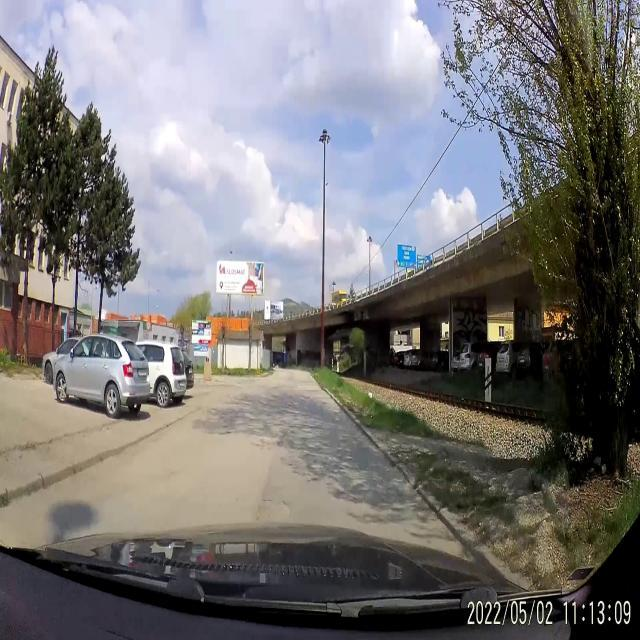Pothole: (254, 484, 294, 529)
